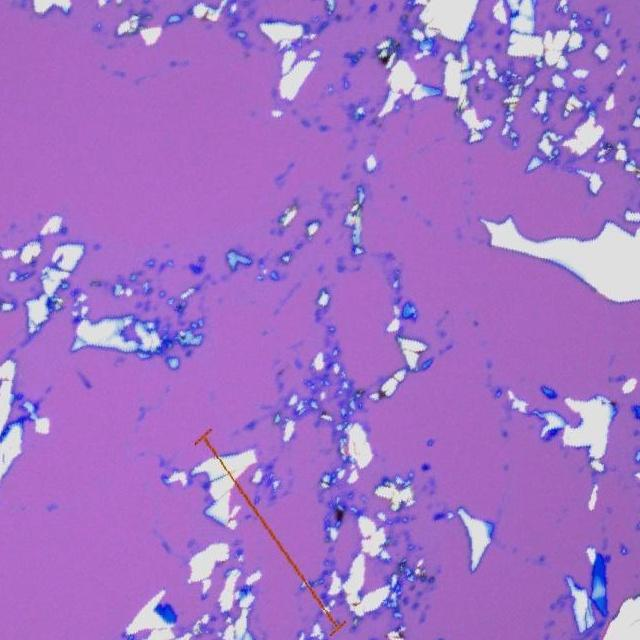monolayer-eWW4: (76, 370, 88, 382)
